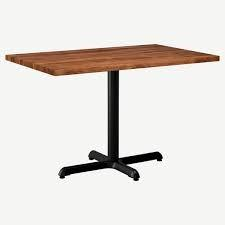Clean Table: (4, 25, 225, 105)
